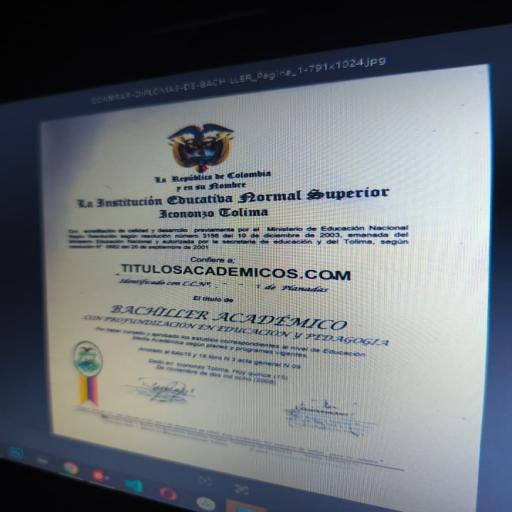bachillerato: (85, 297, 365, 339)
diploma: (40, 65, 498, 512)
escudo: (152, 116, 256, 184)
firma: (251, 388, 379, 444), (133, 371, 218, 415)
institucion: (69, 185, 410, 220)
